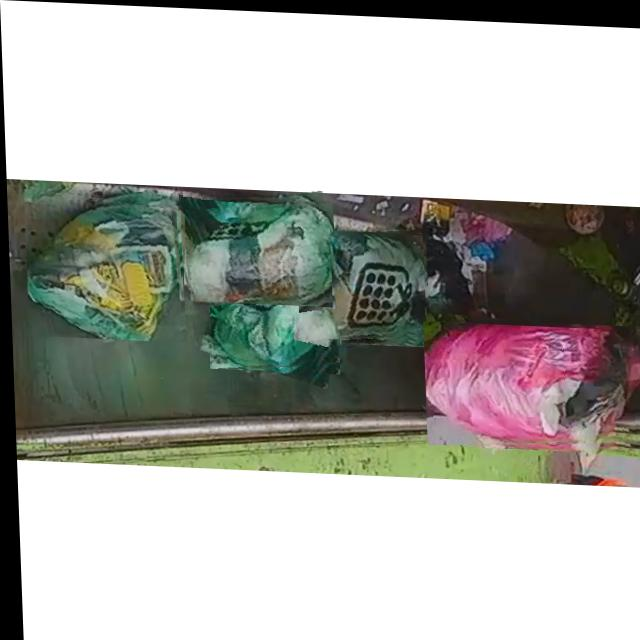general_trashbag: (26, 200, 179, 339), (187, 196, 330, 302), (296, 228, 425, 334), (208, 282, 335, 366)
other_trashbag: (423, 320, 640, 440)
